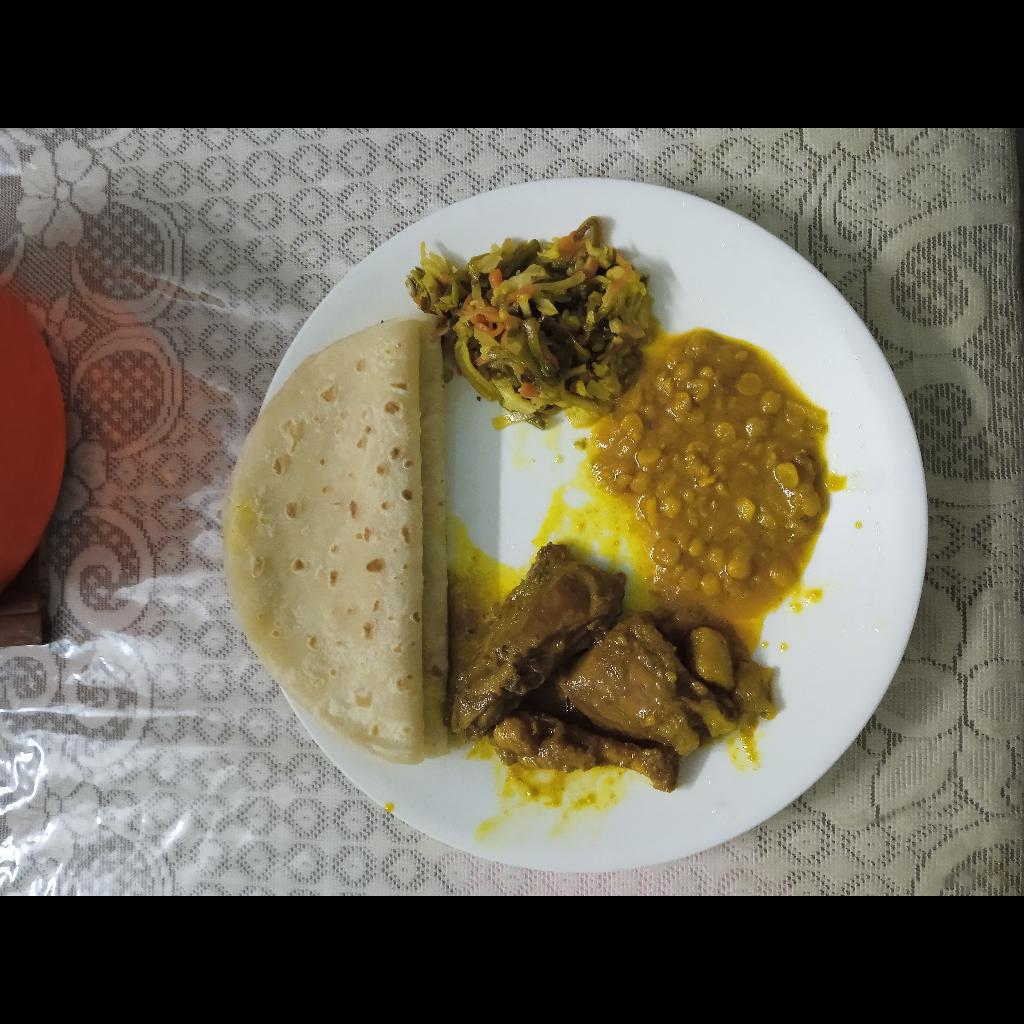chicken: (448, 545, 777, 792)
daal: (593, 330, 825, 599)
ruti: (226, 311, 448, 765)
vegetable: (404, 215, 659, 432)
